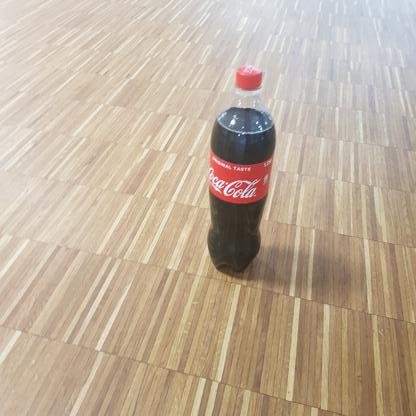coca-cola: (206, 65, 279, 277)
